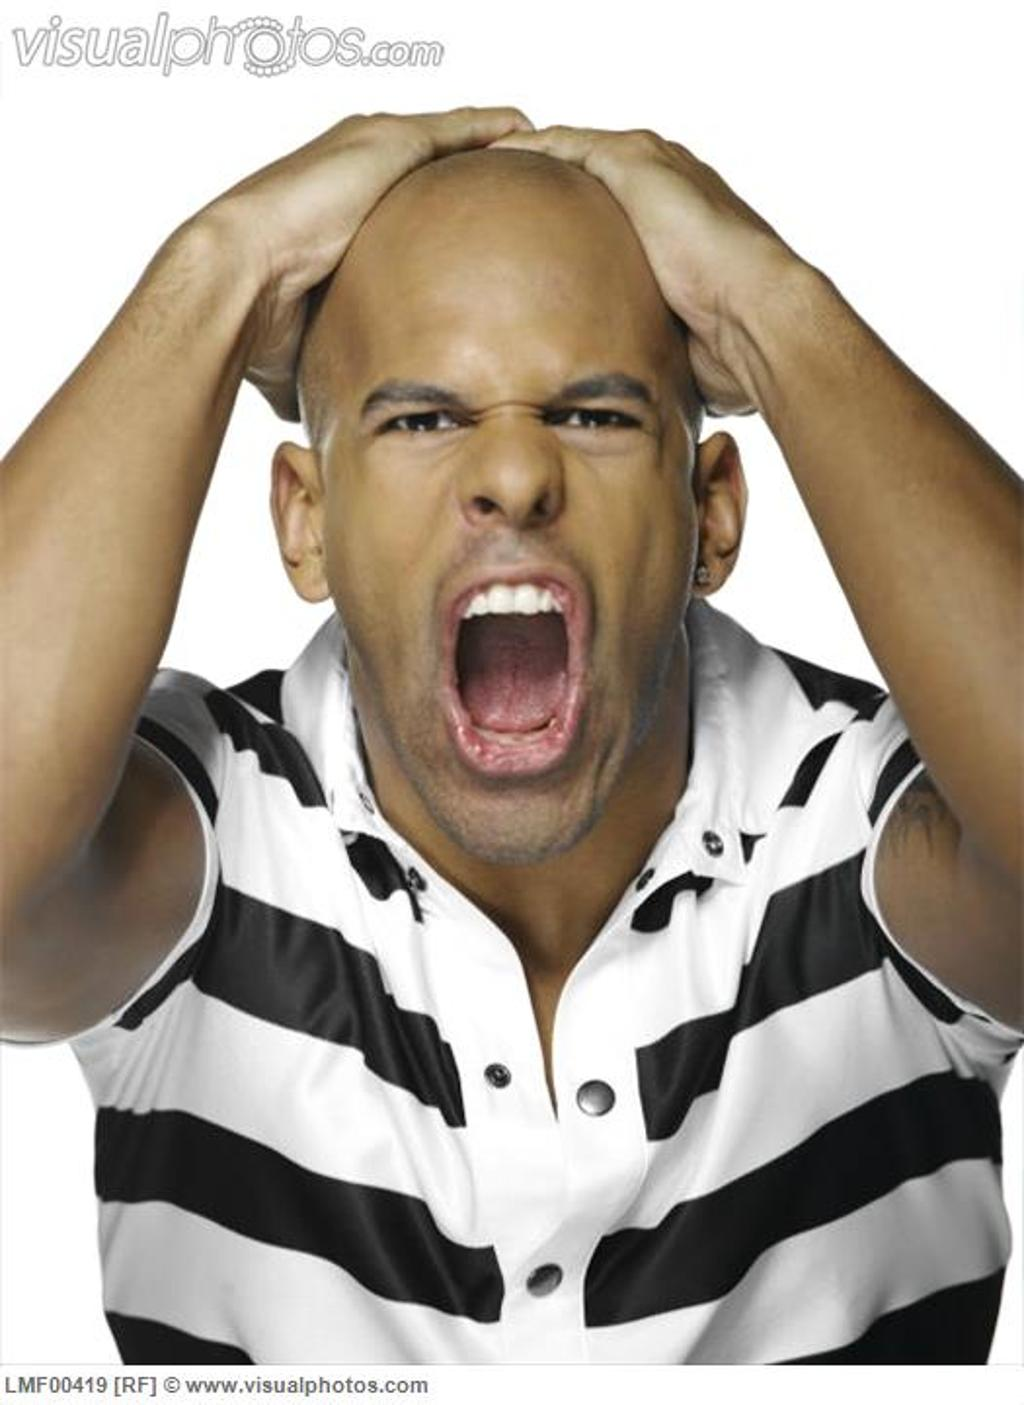face: (321, 236, 692, 870)
